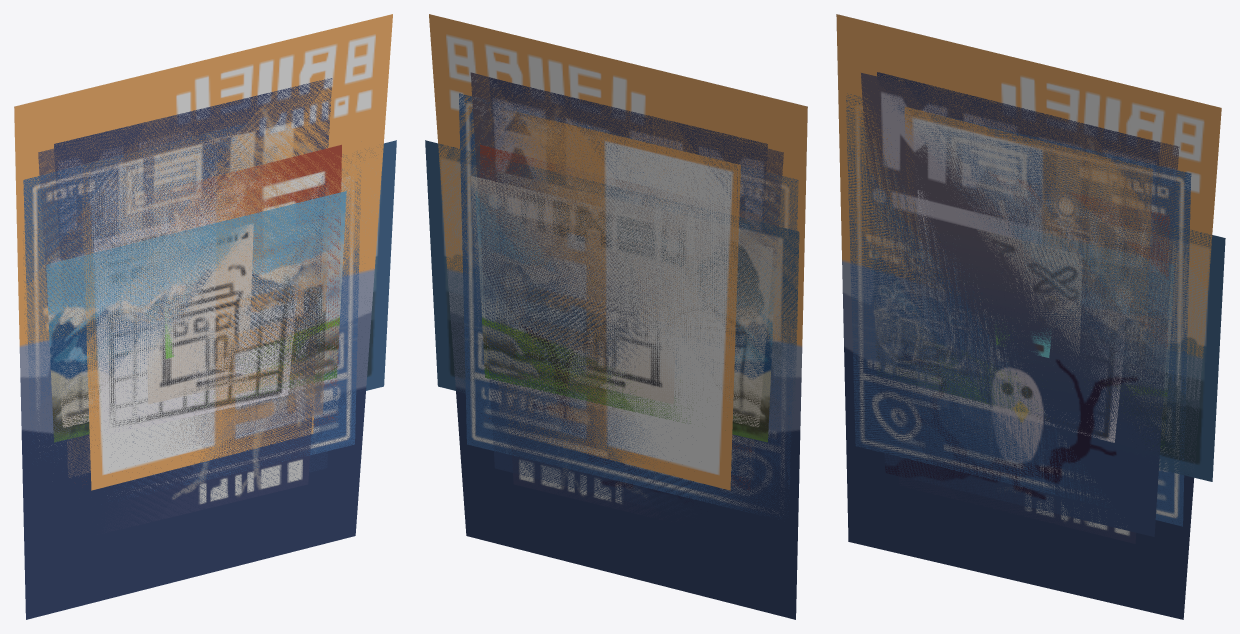
File: Posters.fbx
3 renders of one model, left to right at view 1: azimuth 30°, elevation 25°; view 2: azimuth 150°, elevation 25°; view 3: azimuth 330°, elevation 25°, orthographic.
Parts seen in each view (by area): view 1: Poster_11, Poster_09, Poster_05, Poster_01, Poster_03, Poster_04, Poster_02, Poster_08, Poster_10, Poster_13, Poster_12, Poster_06; view 2: Poster_11, Poster_09, Poster_10, Poster_12, Poster_03, Poster_01, Poster_05, Poster_06, Poster_04, Poster_08, Poster_13; view 3: Poster_10, Poster_11, Poster_03, Poster_09, Poster_12, Poster_05, Poster_01, Poster_07, Poster_04, Poster_02, Poster_13, Poster_06.
Boxes of the visible parts, bbox=[...] form: Poster_11: bbox=[14, 14, 392, 619]; Poster_09: bbox=[81, 134, 318, 490]; Poster_05: bbox=[54, 78, 332, 534]; Poster_01: bbox=[46, 191, 346, 442]; Poster_03: bbox=[23, 114, 360, 496]; Poster_04: bbox=[62, 160, 329, 477]; Poster_02: bbox=[94, 205, 300, 435]; Poster_08: bbox=[147, 223, 253, 404]; Poster_10: bbox=[38, 100, 327, 472]; Poster_13: bbox=[67, 144, 341, 481]; Poster_12: bbox=[23, 140, 396, 443]; Poster_06: bbox=[49, 176, 350, 427]; Poster_11: bbox=[429, 14, 807, 619]; Poster_09: bbox=[499, 108, 740, 490]; Poster_10: bbox=[470, 72, 783, 516]; Poster_12: bbox=[425, 140, 799, 431]; Poster_03: bbox=[459, 93, 798, 519]; Poster_01: bbox=[475, 191, 774, 442]; Poster_05: bbox=[489, 78, 767, 521]; Poster_06: bbox=[471, 176, 773, 427]; Poster_04: bbox=[492, 157, 760, 476]; Poster_08: bbox=[572, 263, 674, 404]; Poster_13: bbox=[480, 144, 751, 489]; Poster_10: bbox=[861, 73, 1179, 536]; Poster_11: bbox=[836, 14, 1221, 619]; Poster_03: bbox=[846, 93, 1191, 526]; Poster_09: bbox=[904, 106, 1152, 450]; Poster_12: bbox=[958, 176, 1225, 481]; Poster_05: bbox=[877, 72, 1159, 543]; Poster_01: bbox=[870, 192, 1174, 449]; Poster_07: bbox=[975, 229, 1082, 387]; Poster_04: bbox=[891, 180, 1158, 447]; Poster_02: bbox=[917, 190, 1130, 442]; Poster_13: bbox=[901, 172, 1169, 431]; Poster_06: bbox=[872, 177, 1173, 436].
Bounding box in the file's own units: 342 × 440 × 3.33e-05.
